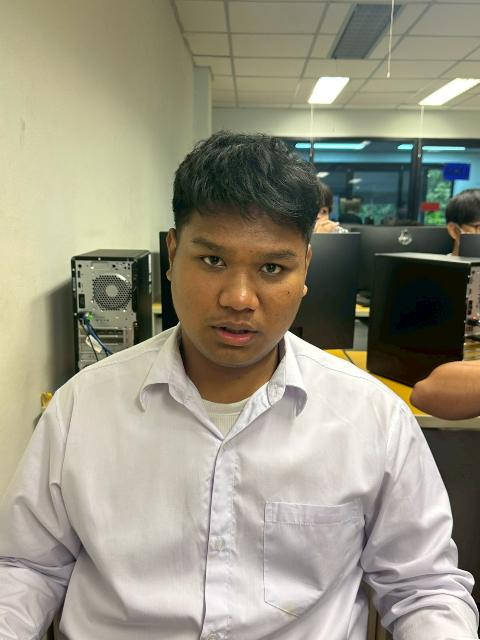fokus: (159, 131, 321, 368)
